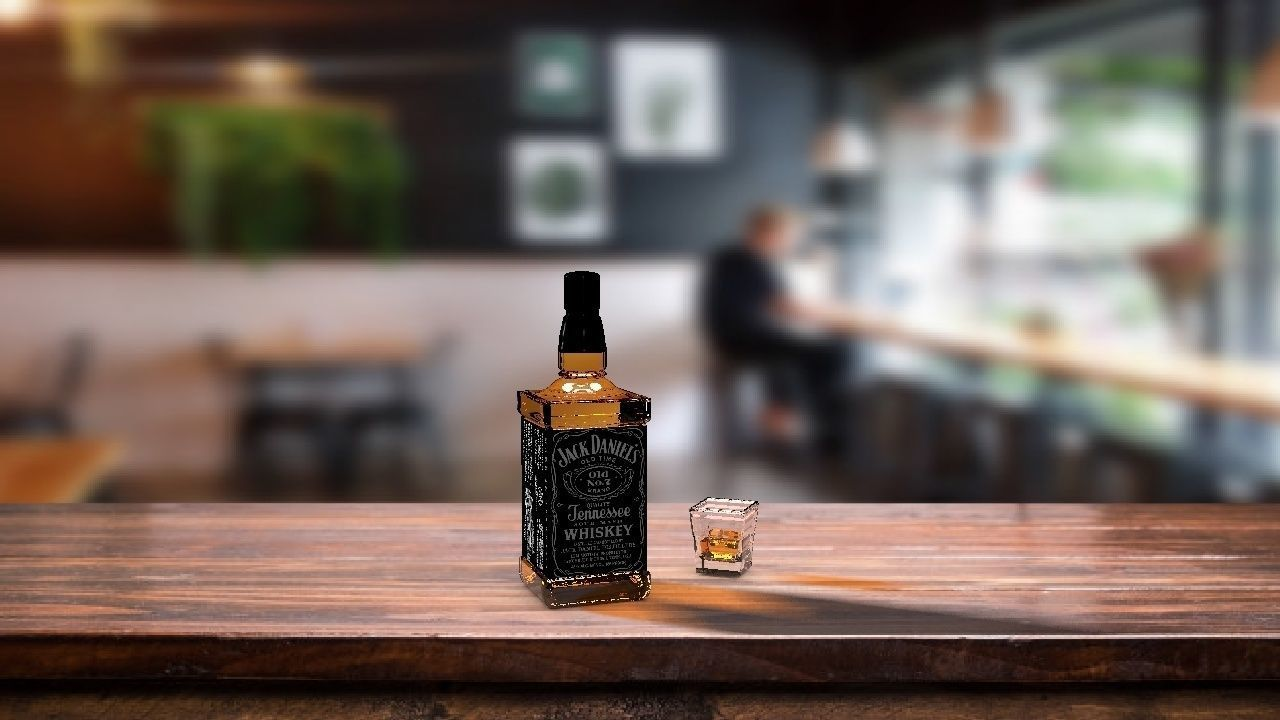Jack Daniel: (501, 260, 668, 618)
